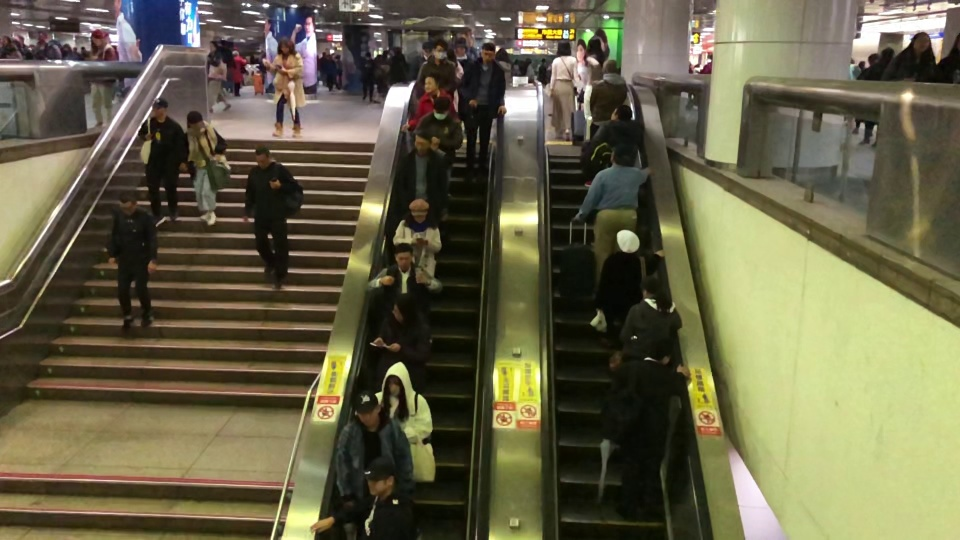person_head: (366, 467, 395, 494), (391, 293, 417, 322), (356, 398, 381, 426), (610, 143, 635, 168), (645, 338, 671, 362), (393, 242, 414, 271), (639, 276, 663, 299), (117, 190, 138, 213), (618, 232, 639, 253), (413, 129, 432, 152), (385, 372, 404, 394), (911, 31, 930, 51), (432, 96, 449, 118), (611, 105, 632, 122), (410, 200, 426, 222), (422, 73, 439, 93), (253, 145, 270, 164), (431, 39, 448, 58), (187, 110, 203, 127), (556, 39, 572, 55), (586, 36, 602, 52), (602, 58, 618, 74), (481, 42, 495, 60), (278, 36, 294, 51), (151, 100, 165, 116), (880, 45, 893, 61), (90, 31, 103, 46), (497, 47, 508, 63), (456, 42, 466, 56), (421, 41, 430, 56), (38, 31, 49, 43), (2, 35, 11, 45), (209, 40, 216, 50), (709, 54, 712, 59)
person_vbox: (599, 338, 693, 522), (575, 143, 652, 283), (240, 144, 303, 289), (334, 398, 413, 510), (310, 468, 418, 538), (105, 190, 159, 329), (459, 42, 507, 189), (595, 230, 667, 323), (139, 101, 188, 228), (416, 96, 463, 221), (583, 59, 627, 188), (618, 276, 682, 360), (184, 110, 228, 226), (372, 293, 432, 376), (261, 36, 306, 138), (369, 243, 444, 300), (397, 129, 449, 206), (392, 200, 441, 278), (383, 372, 433, 445), (857, 45, 893, 146), (401, 73, 459, 132), (84, 30, 117, 129), (590, 104, 638, 172), (549, 38, 578, 143), (882, 31, 935, 84), (416, 39, 460, 92), (206, 40, 232, 114), (583, 35, 604, 121), (935, 37, 957, 84), (34, 31, 61, 59), (497, 47, 512, 83), (1, 35, 21, 59), (698, 53, 712, 74)
